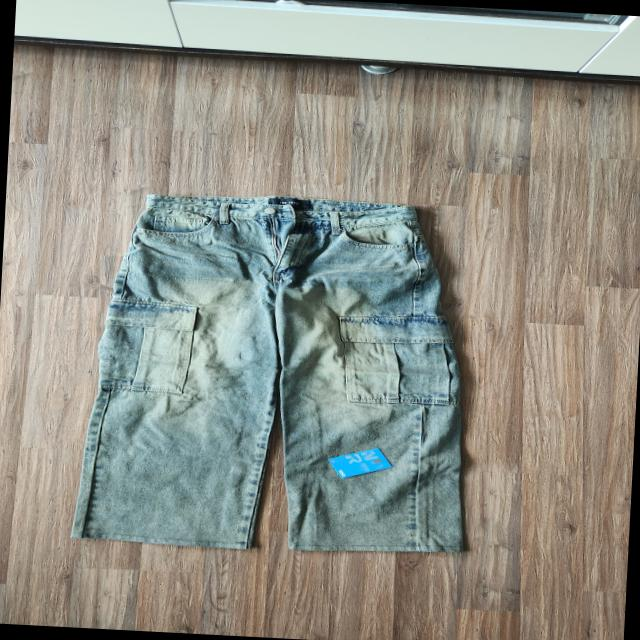card: (328, 448, 392, 479)
